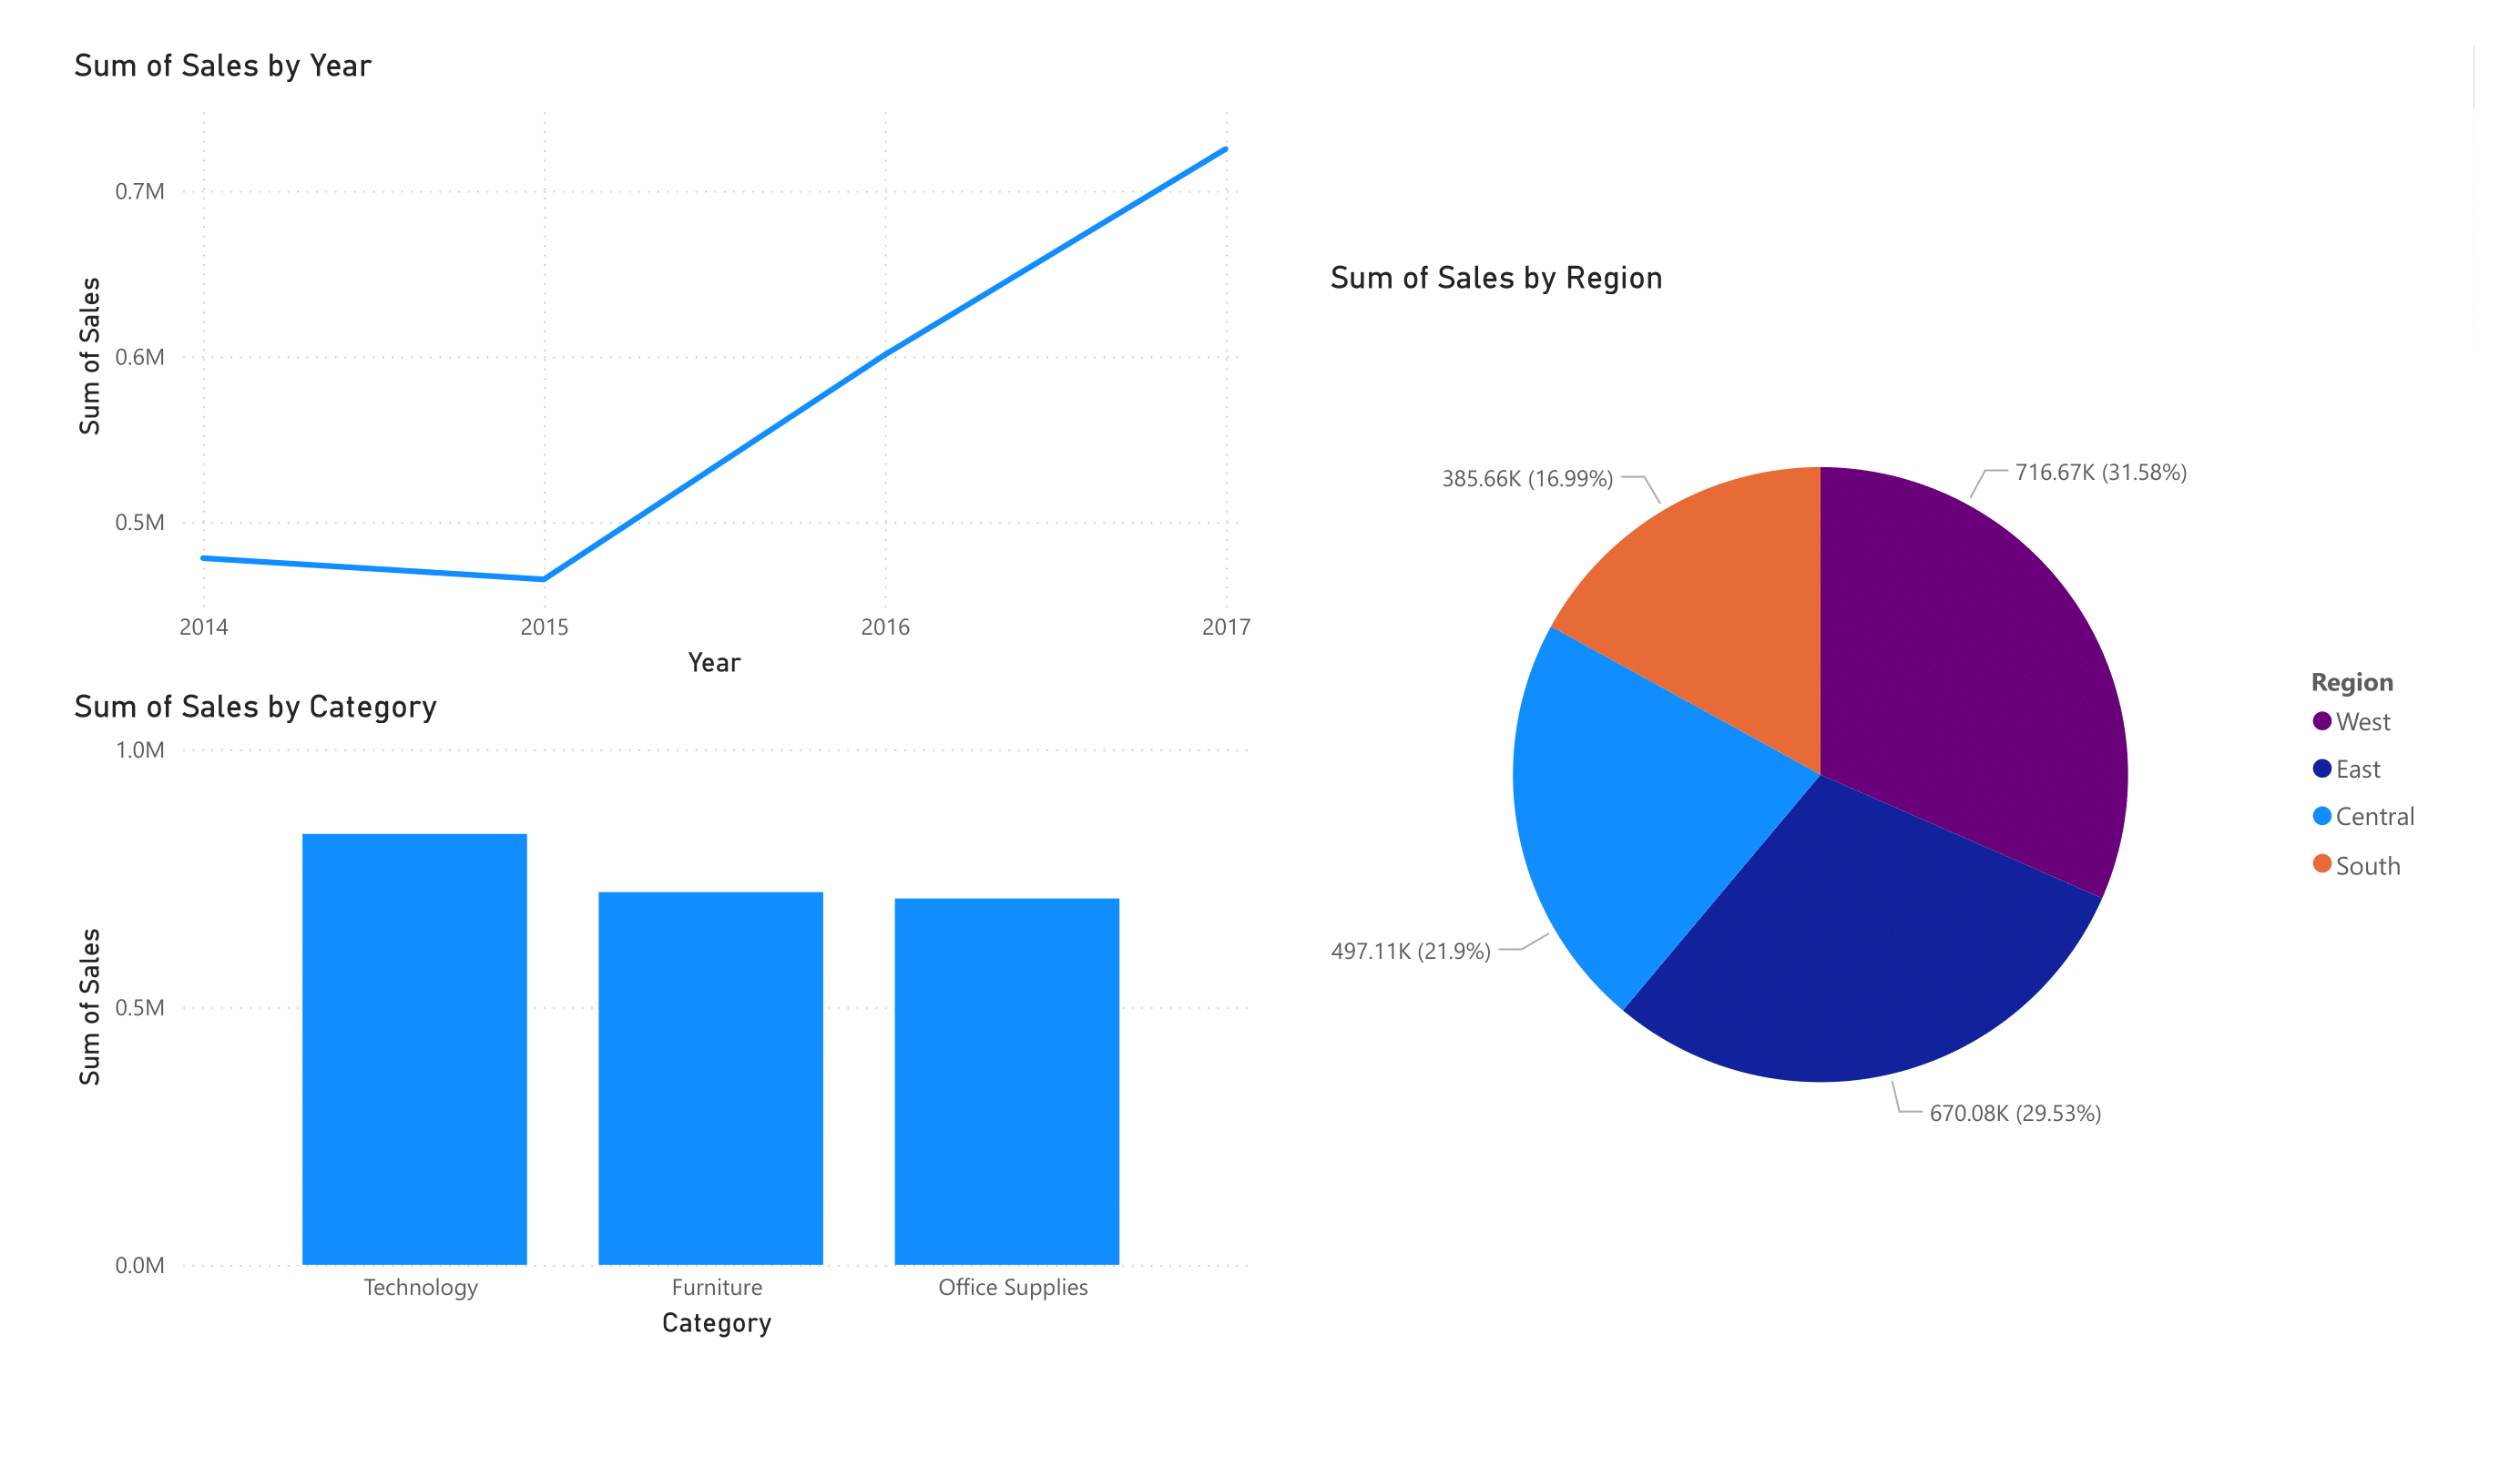

What the dashboard file says about the page in this screenshot:
{"tool":"powerbi","page":{"name":"Page 1","canvas":[1280,720],"ordinal":0},"visuals":[{"type":"lineChart","fields":{"Category":["Sample - Superstore.Year"],"Y":["Sum(Sample - Superstore.Sales)"]},"box":[10,0,630,338],"z":0},{"type":"clusteredColumnChart","fields":{"Category":["Sample - Superstore.Category"],"Y":["Sum(Sample - Superstore.Sales)"]},"box":[10,338,630,348],"z":1000},{"type":"pieChart","fields":{"Category":["Sample - Superstore.Region"],"Y":["Sum(Sample - Superstore.Sales)"]},"box":[672,112,592,526],"z":2000}]}

Visuals, with their boxes in screenshot pixels (x1, y1, x2, y2):
lineChart - Sample - Superstore.Year x Sum(Sample - Superstore.Sales): Rect(65, 46, 1260, 687)
clusteredColumnChart - Sample - Superstore.Category x Sum(Sample - Superstore.Sales): Rect(65, 687, 1260, 1347)
pieChart - Sample - Superstore.Region x Sum(Sample - Superstore.Sales): Rect(1321, 258, 2444, 1256)
